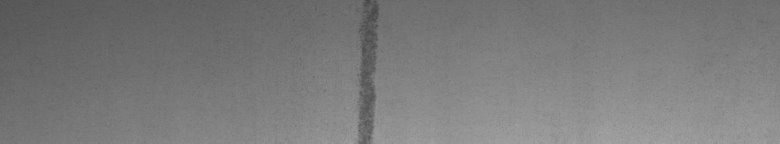hd: (353, 4, 384, 136)
